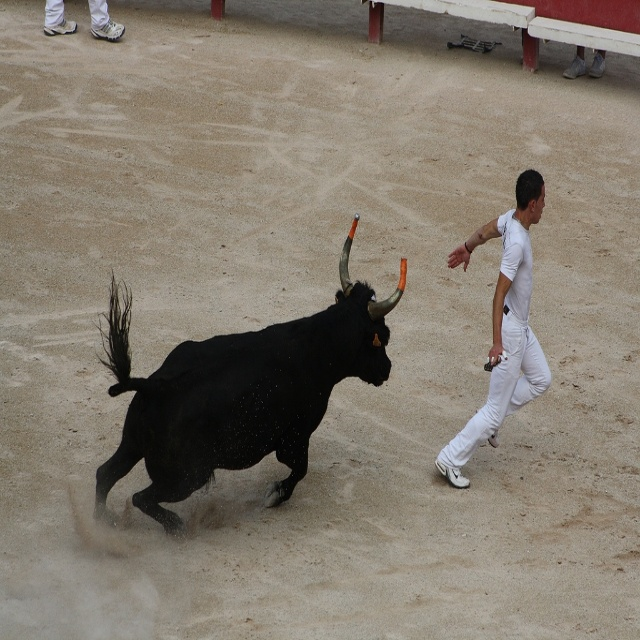Bull: (94, 217, 406, 536)
